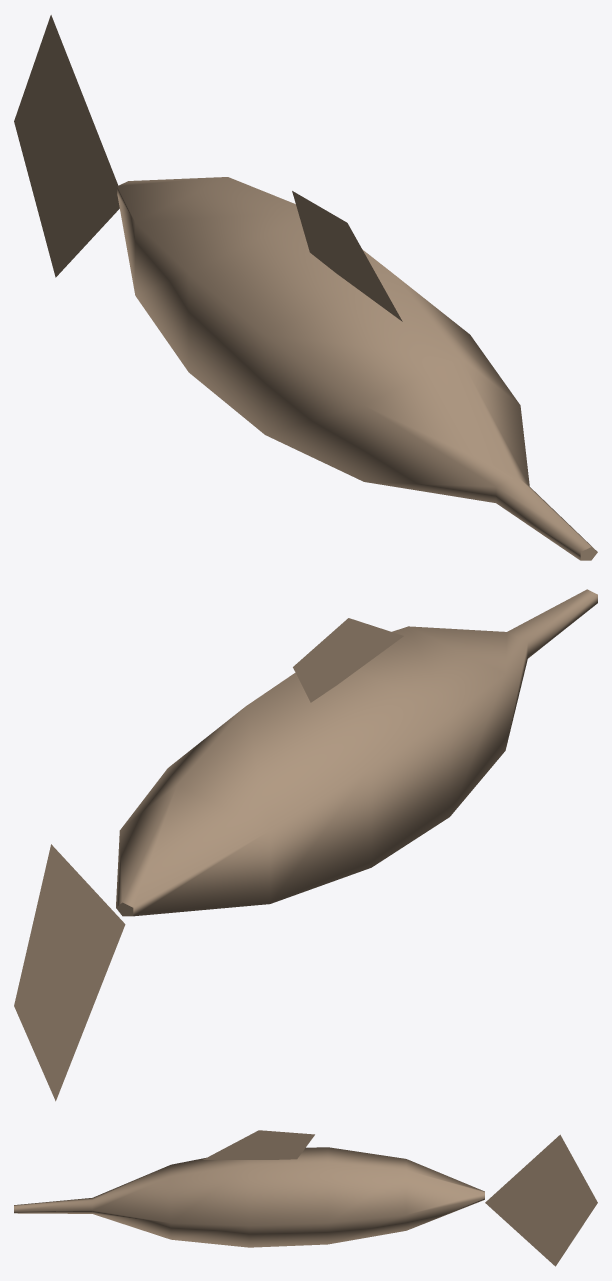
File: fish.glb
3 renders of one model, top to bottom at view 1: azimuth 30°, elevation 25°; view 2: azimuth 150°, elevation 25°; view 3: azimuth 270°, elevation 25°, orthographic. The views are drawn at different scales.
Visible parts, largest first — view 1: fish; view 2: fish; view 3: fish.
Part boxes in pixels (bbox=[...]): fish: bbox=[14, 15, 597, 560]; fish: bbox=[14, 589, 597, 1101]; fish: bbox=[14, 1130, 597, 1266].
Size of the model in its own units: 0.0895 by 0.112 by 0.434.
